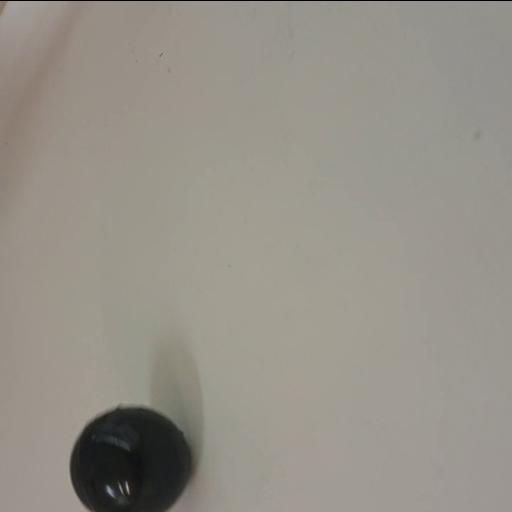dead: (66, 403, 191, 512)
